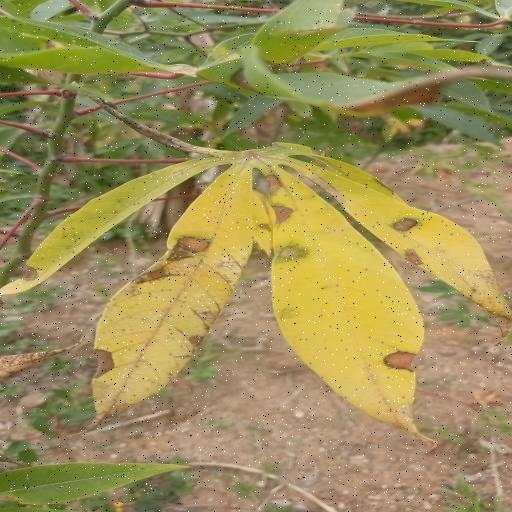Cassava_Brown_Leaf_Spot: (16, 132, 499, 441)
